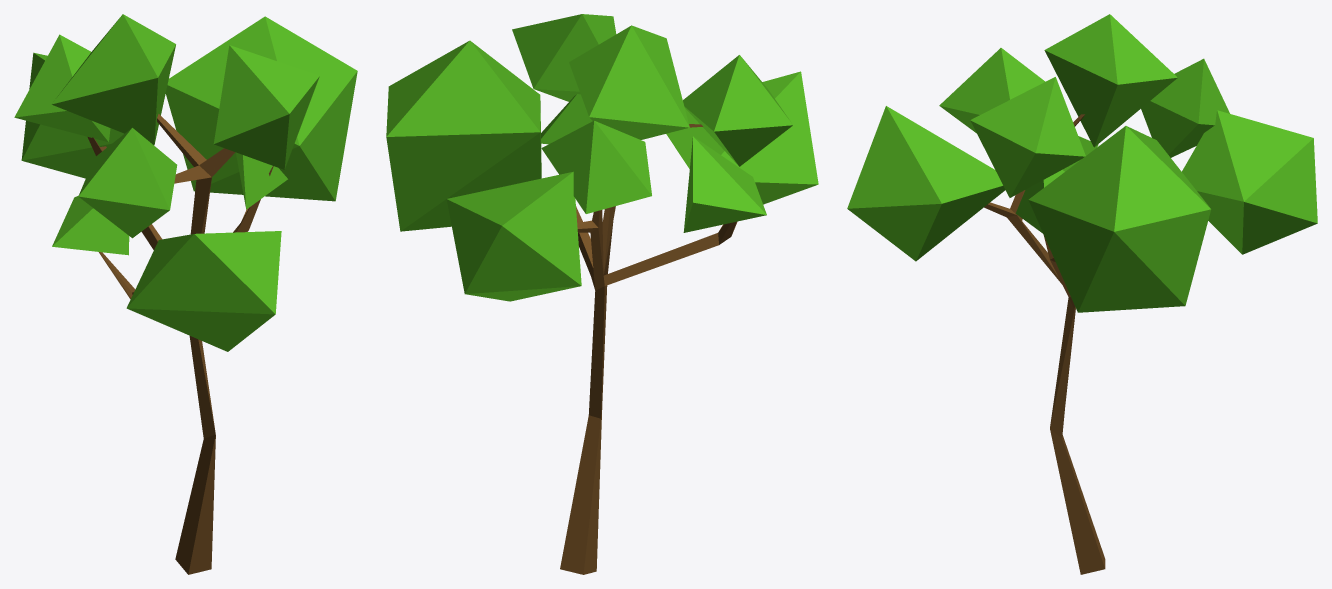
The model's file is tree1.fbx.
The picture shows the model from 3 angles, left to right: view 1: azimuth 30°, elevation 25°; view 2: azimuth 150°, elevation 25°; view 3: azimuth 270°, elevation 25°; orthographic projection. The views are drawn at different scales.
Visible parts, largest first — view 1: tree; view 2: tree; view 3: tree.
Boxes of the visible parts, x1,y1,x2,y2 form: tree: [14, 14, 357, 574]; tree: [386, 14, 818, 574]; tree: [847, 14, 1317, 574].
Size of the model in its own units: 405 by 640 by 518.
